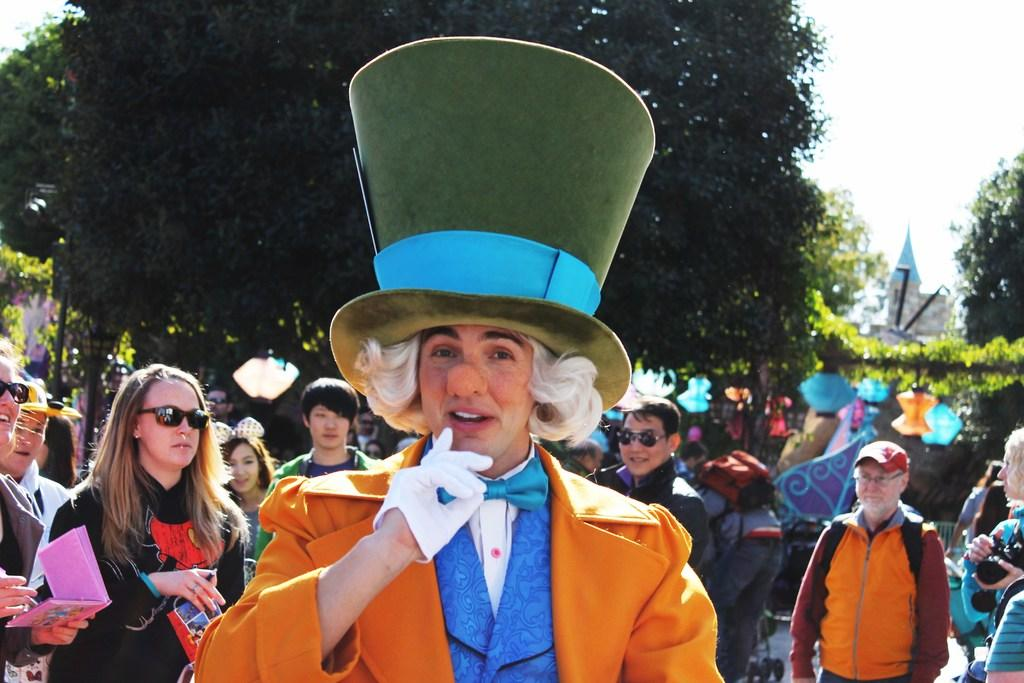Hat: (328, 37, 658, 414), (850, 435, 910, 472)
